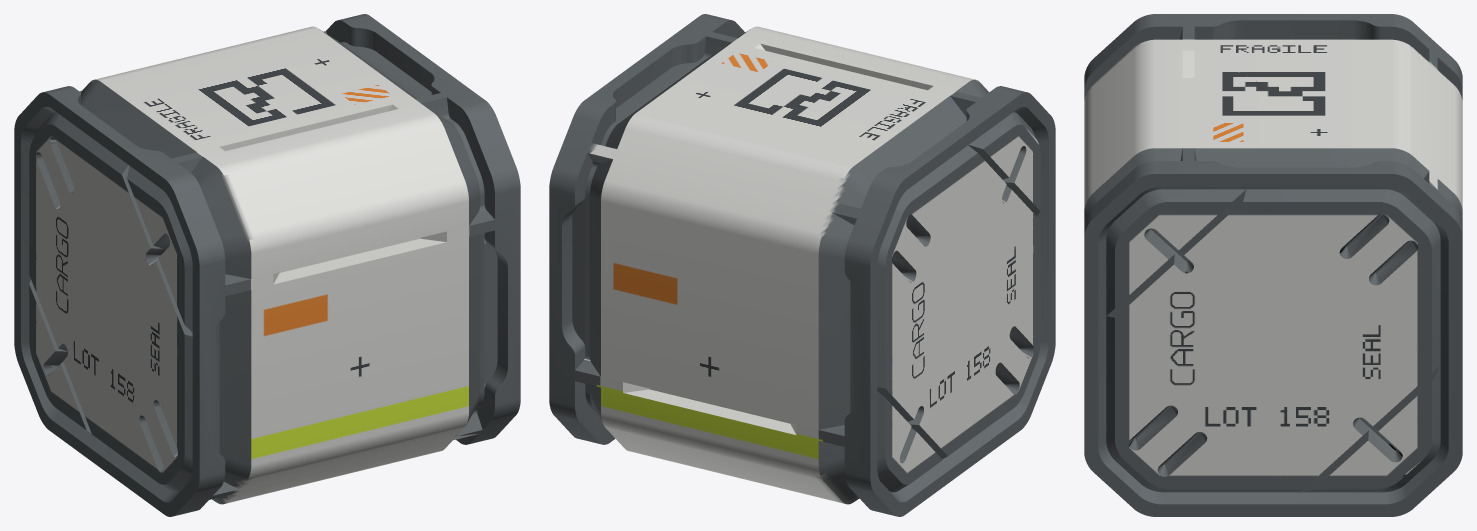
File: short-box.glb
3 renders of one model, left to right at view 1: azimuth 30°, elevation 25°; view 2: azimuth 150°, elevation 25°; view 3: azimuth 270°, elevation 25°, orthographic. The views are drawn at different scales.
Visible parts, largest first — view 1: short-box-full; view 2: short-box-full; view 3: short-box-full.
Part boxes in pixels (x1,y1,x2,y2): short-box-full: (14,14,520,516); short-box-full: (549,14,1055,516); short-box-full: (1084,14,1462,516).
Bounding box in the file's own units: 25 × 25 × 25.
Materials: 1 (1 with a texture image).
